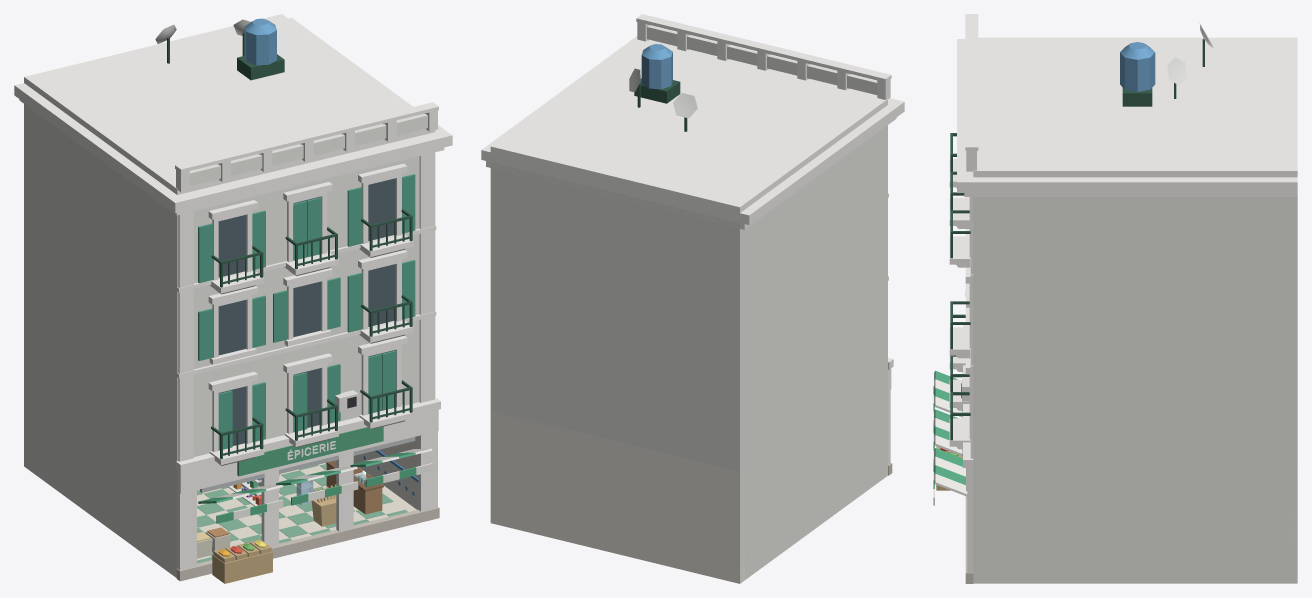
File: shop_grocery.fbx
3 renders of one model, left to right at view 1: azimuth 30°, elevation 25°; view 2: azimuth 150°, elevation 25°; view 3: azimuth 270°, elevation 25°, orthographic. The views are drawn at different scales.
Parts seen in each view (by area): view 1: shop_grocery; view 2: shop_grocery; view 3: shop_grocery.
Part boxes in pixels (x1,y1,x2,y2): shop_grocery: (14,14,452,583); shop_grocery: (481,14,904,583); shop_grocery: (933,14,1297,583).
Bounding box in the file's own units: 11.5 × 18.25 × 12.35.
